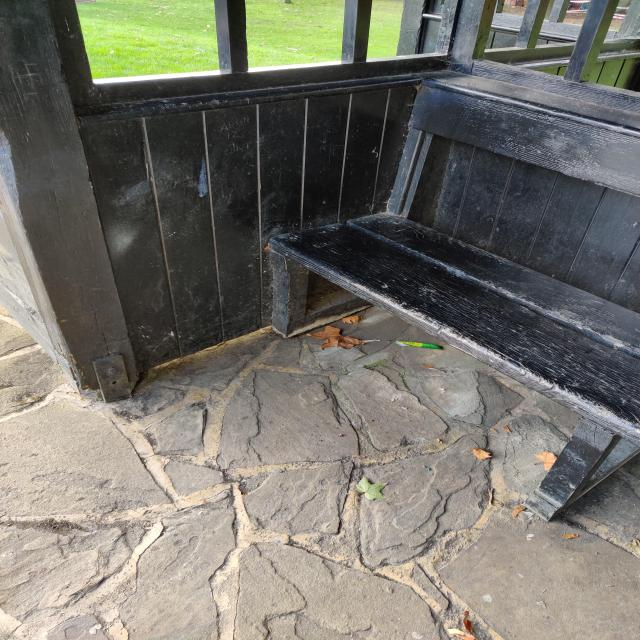litter: (386, 340, 444, 350)
